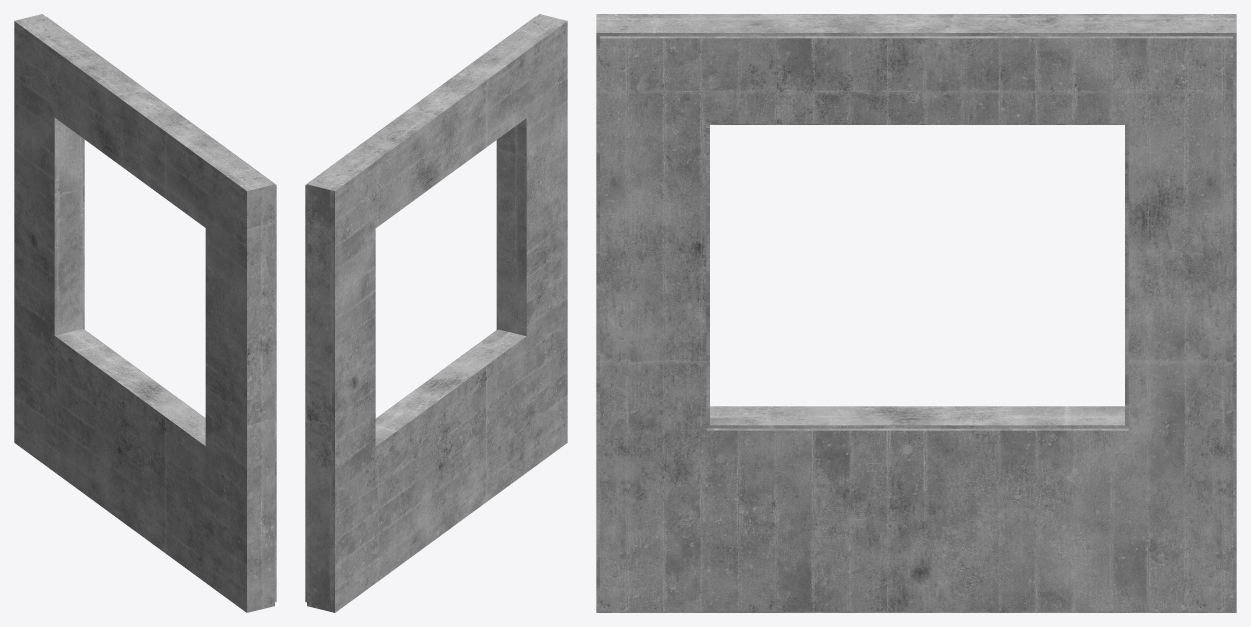
File: panel_house_001.fbx
3 views of the same model, side by side, from view 1: azimuth 30°, elevation 25°; view 2: azimuth 150°, elevation 25°; view 3: azimuth 270°, elevation 25° (orthographic). The views are drawn at different scales.
Visible parts, largest first — view 1: panel_001.001; view 2: panel_001.001; view 3: panel_001.001.
Part boxes in pixels (box(x1,y1,x2,y2)): panel_001.001: box(14, 14, 276, 612); panel_001.001: box(305, 14, 567, 612); panel_001.001: box(596, 14, 1236, 612).
Bounding box in the file's own units: 31.03 × 400 × 400.
